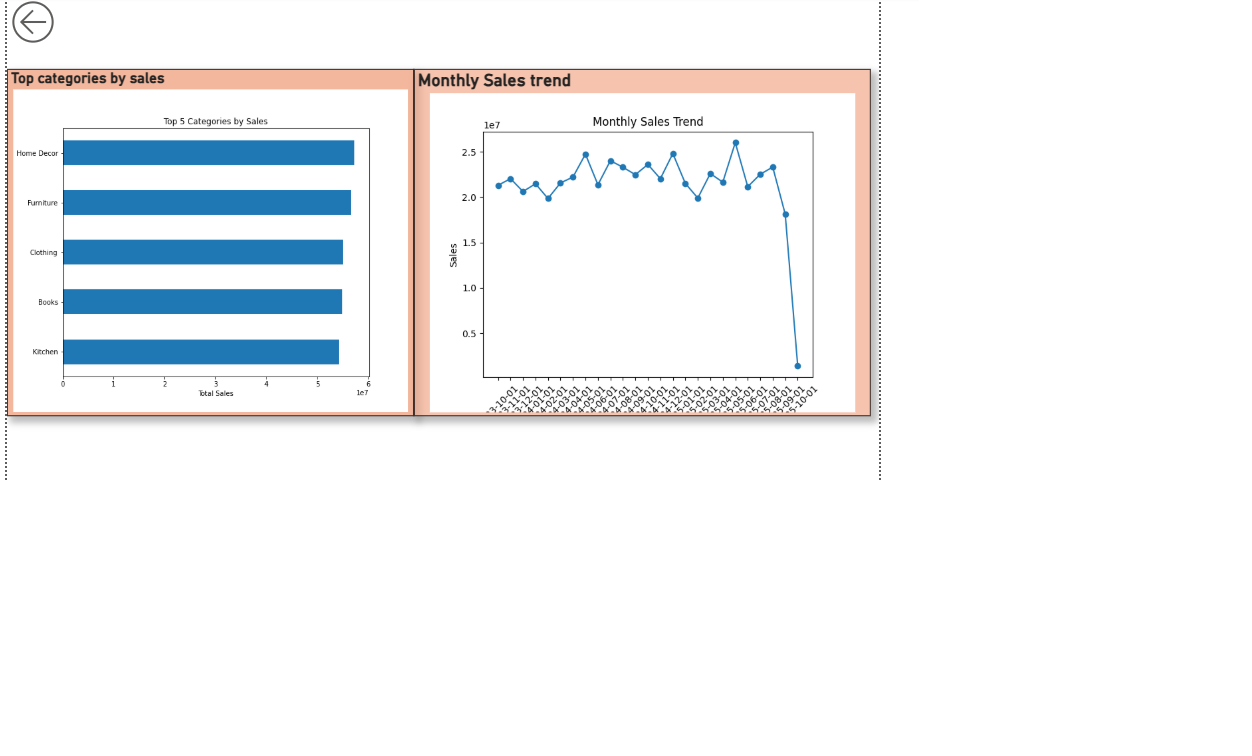

This screenshot's page, from the dashboard's own definition file:
{"tool":"powerbi","page":{"name":"sales trend","canvas":[1280,720],"ordinal":2},"visuals":[{"type":"pythonVisual","title":"Top categories by sales","fields":{"Values":["cleaned_data.Category","Sum(cleaned_data.Sales)"]},"box":[0,107.4,598.4,510],"z":0},{"type":"pythonVisual","title":" Monthly Sales trend","fields":{"Values":["monthly_sales.Order Date.Variation.Date Hierarchy.Year","monthly_sales.Order Date.Variation.Date Hierarchy.Quarter","monthly_sales.Order Date.Variation.Date Hierarchy.Month","monthly_sales.Order Date.Variation.Date Hierarchy.Day","monthly_sales.Sales"]},"box":[598.4,107.4,671.1,510],"z":1},{"type":"actionButton","box":[0,0,99.9,76.4],"z":2}]}

Visuals, with their boxes on the page's 1280x720 design canvas (x1, y1, x2, y2). These are canvas units, not pixel positions in the 1252x756 screenshot, which may show the page scaled, cropped or inside an application window:
"Top categories by sales" pythonVisual: bbox(0, 107, 598, 617)
" Monthly Sales trend" pythonVisual: bbox(598, 107, 1270, 617)
actionButton: bbox(0, 0, 100, 76)
